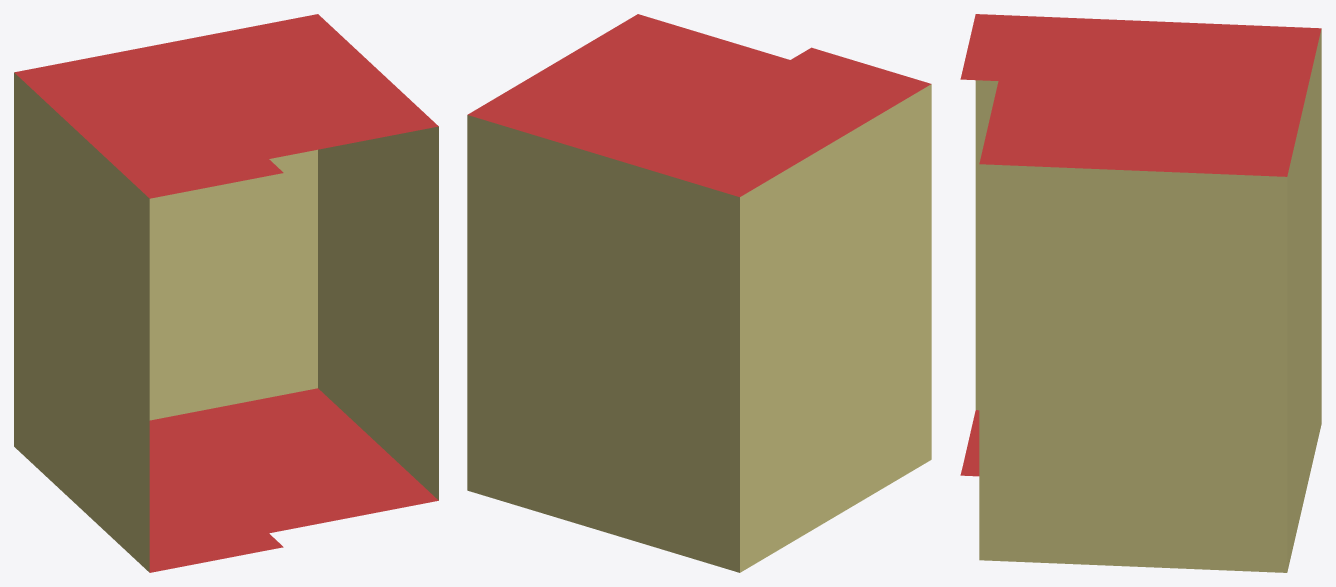
3 views of the same model, side by side, from view 1: azimuth 30°, elevation 25°; view 2: azimuth 150°, elevation 25°; view 3: azimuth 270°, elevation 25° (orthographic). The views are drawn at different scales.
Parts seen in each view (by area): view 1: group_4, group_3, group_5; view 2: group_4, group_3; view 3: group_4, group_3, group_5.
Part boxes in pixels (x1=…): group_4: x1=14, y1=72, x2=438, y2=572; group_3: x1=14, y1=14, x2=438, y2=198; group_5: x1=149, y1=388, x2=438, y2=572; group_4: x1=467, y1=84, x2=931, y2=572; group_3: x1=467, y1=14, x2=930, y2=196; group_4: x1=975, y1=29, x2=1321, y2=572; group_3: x1=960, y1=14, x2=1321, y2=176; group_5: x1=960, y1=410, x2=979, y2=476.
Bounding box in the file's own units: 6.18 × 5.79 × 7.
